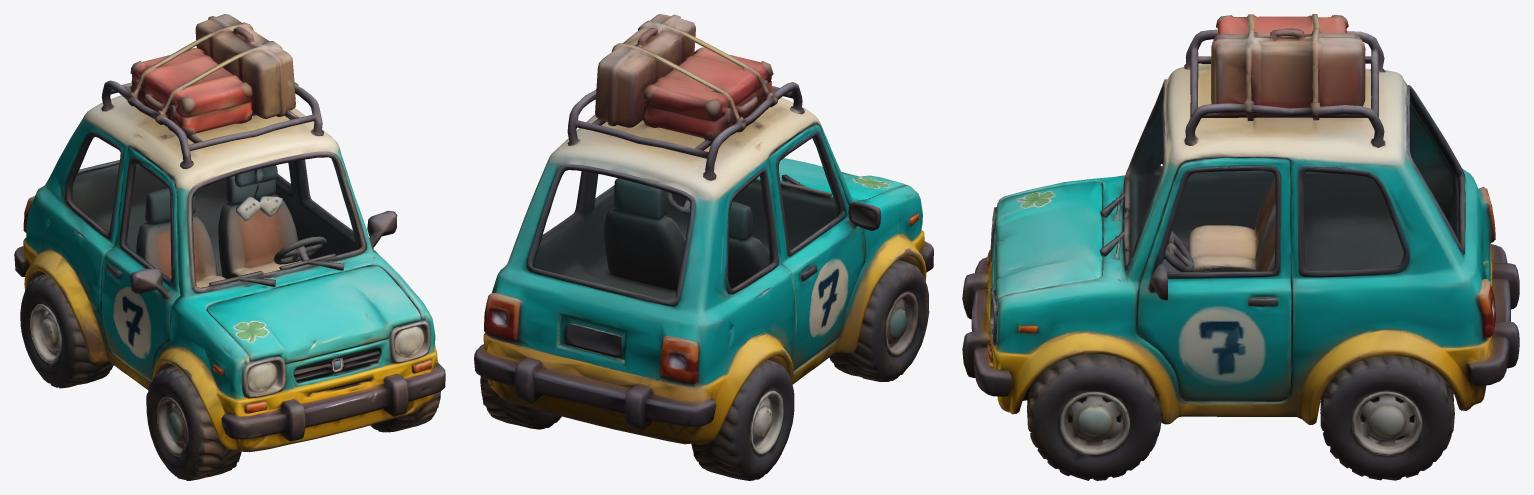
File: car.glb
The picture shows the model from 3 angles, left to right: view 1: azimuth 30°, elevation 25°; view 2: azimuth 150°, elevation 25°; view 3: azimuth 270°, elevation 25°; orthographic projection. The views are drawn at different scales.
Visible parts, largest first — view 1: tripo_part_0, tripo_part_3, tripo_part_6, tripo_part_7, tripo_part_4, tripo_part_5, tripo_part_2, tripo_part_1, tripo_part_9; view 2: tripo_part_0, tripo_part_3, tripo_part_7, tripo_part_6, tripo_part_4, tripo_part_2, tripo_part_5, tripo_part_8; view 3: tripo_part_0, tripo_part_1, tripo_part_8, tripo_part_3, tripo_part_2, tripo_part_5, tripo_part_9, tripo_part_4.
Boxes of the visible parts, bbox=[...] form: tripo_part_0: bbox=[14, 95, 445, 452]; tripo_part_3: bbox=[130, 14, 297, 136]; tripo_part_6: bbox=[146, 366, 241, 480]; tripo_part_7: bbox=[20, 274, 113, 388]; tripo_part_4: bbox=[218, 175, 309, 278]; tripo_part_5: bbox=[136, 188, 225, 287]; tripo_part_2: bbox=[101, 75, 323, 168]; tripo_part_1: bbox=[370, 362, 440, 432]; tripo_part_9: bbox=[273, 236, 327, 264]; tripo_part_0: bbox=[474, 97, 933, 444]; tripo_part_3: bbox=[595, 14, 773, 141]; tripo_part_7: bbox=[691, 359, 794, 480]; tripo_part_6: bbox=[829, 260, 929, 381]; tripo_part_4: bbox=[604, 178, 685, 290]; tripo_part_2: bbox=[567, 73, 804, 180]; tripo_part_5: bbox=[728, 201, 769, 288]; tripo_part_8: bbox=[480, 376, 561, 429]; tripo_part_0: bbox=[962, 64, 1519, 424]; tripo_part_1: bbox=[1027, 354, 1161, 480]; tripo_part_8: bbox=[1320, 356, 1454, 480]; tripo_part_3: bbox=[1211, 14, 1365, 118]; tripo_part_2: bbox=[1184, 29, 1385, 147]; tripo_part_5: bbox=[1188, 177, 1275, 271]; tripo_part_9: bbox=[1163, 231, 1193, 271]; tripo_part_4: bbox=[1205, 223, 1275, 271].
Size of the model in its own units: 0.6228 by 0.7866 by 0.9808.
Materials: 1 (1 with a texture image).
